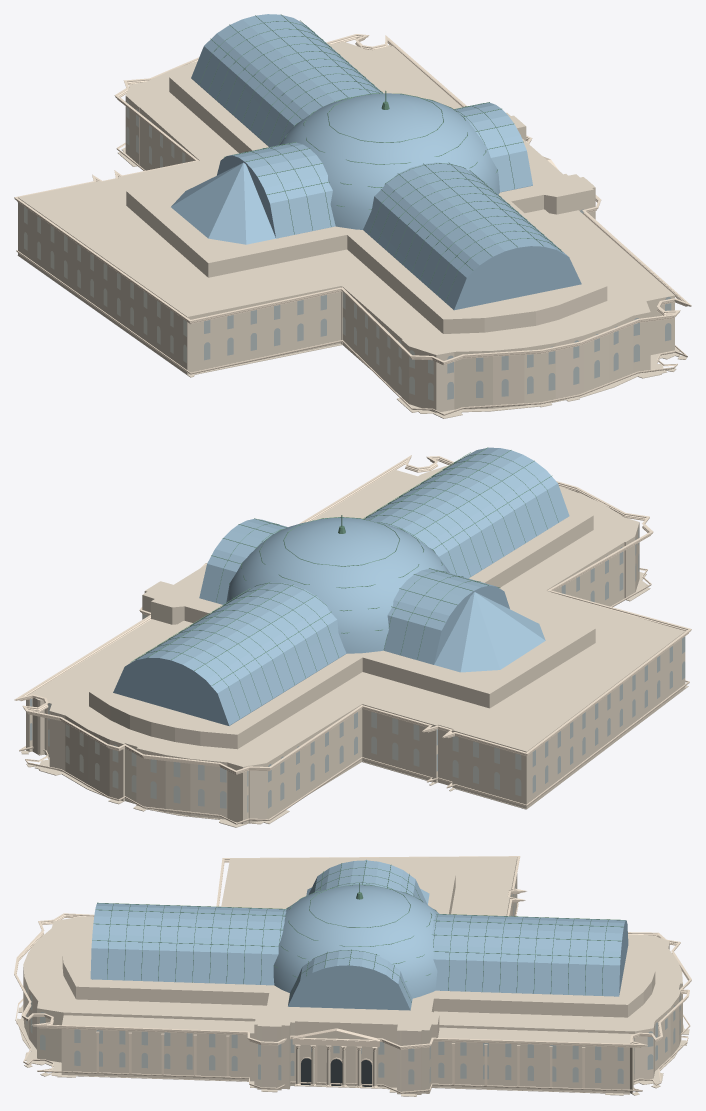
Rendered from detail.glb.
The picture shows the model from 3 angles, top to bottom: view 1: azimuth 30°, elevation 25°; view 2: azimuth 150°, elevation 25°; view 3: azimuth 270°, elevation 25°; orthographic projection. The views are drawn at different scales.
Parts seen in each view (by area): view 1: stone, glass, trim, window, metal; view 2: stone, glass, trim, window, metal; view 3: stone, glass, trim, window, metal, recess.
Boxes of the visible parts, x1,y1,x2,y2 form: stone: [17, 41, 686, 418]; glass: [171, 14, 581, 310]; trim: [14, 34, 691, 415]; window: [24, 100, 671, 400]; metal: [199, 14, 562, 302]; stone: [21, 465, 688, 827]; glass: [113, 447, 569, 725]; trim: [14, 455, 691, 824]; window: [30, 528, 685, 812]; metal: [130, 447, 558, 718]; stone: [16, 856, 689, 1096]; glass: [90, 859, 628, 1010]; trim: [14, 856, 691, 1093]; window: [26, 876, 680, 1084]; metal: [92, 860, 625, 1002]; recess: [301, 1058, 371, 1086].
Size of the model in its own units: 161 by 56 by 242.
